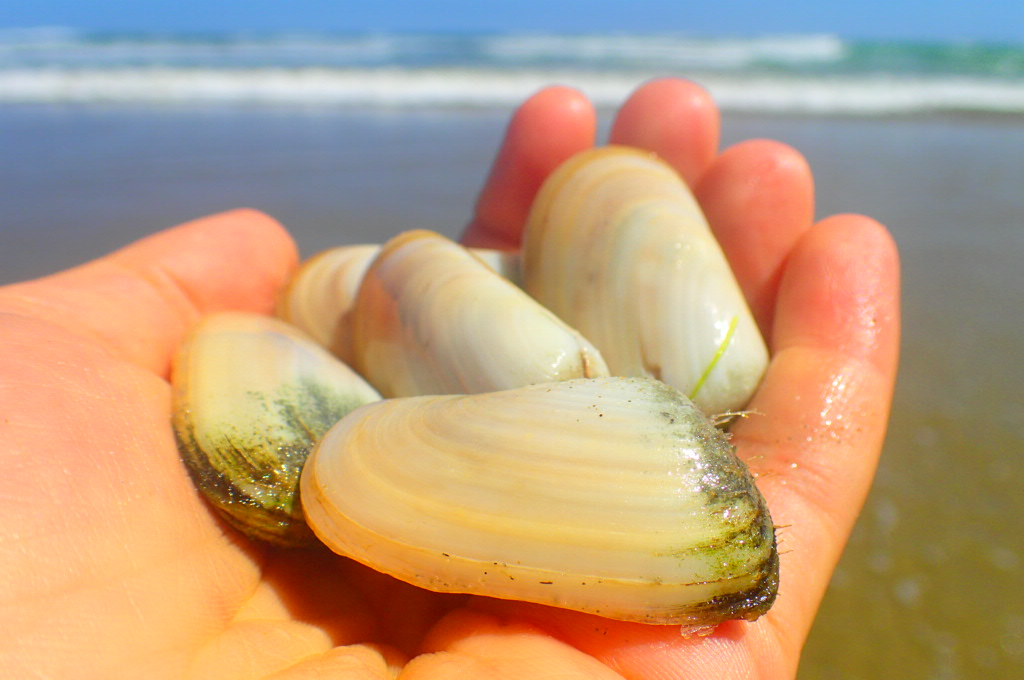tuatua: (291, 370, 775, 627), (525, 147, 772, 409), (168, 308, 362, 552), (347, 226, 593, 390)
